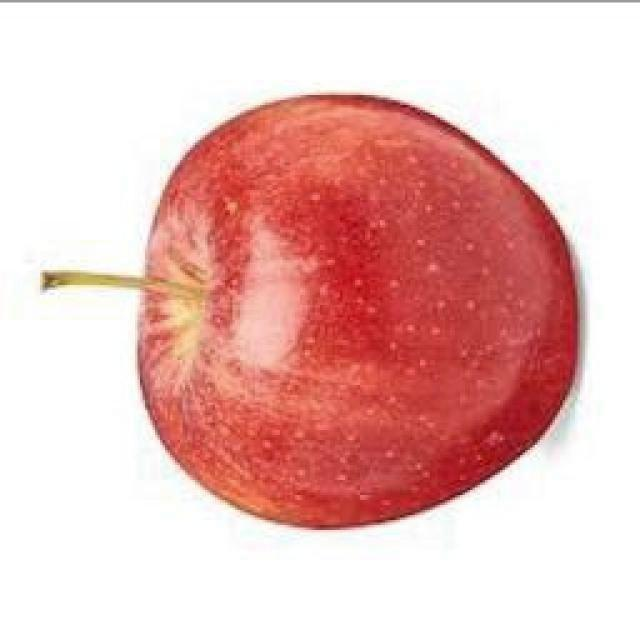Apple: (139, 95, 578, 527)
